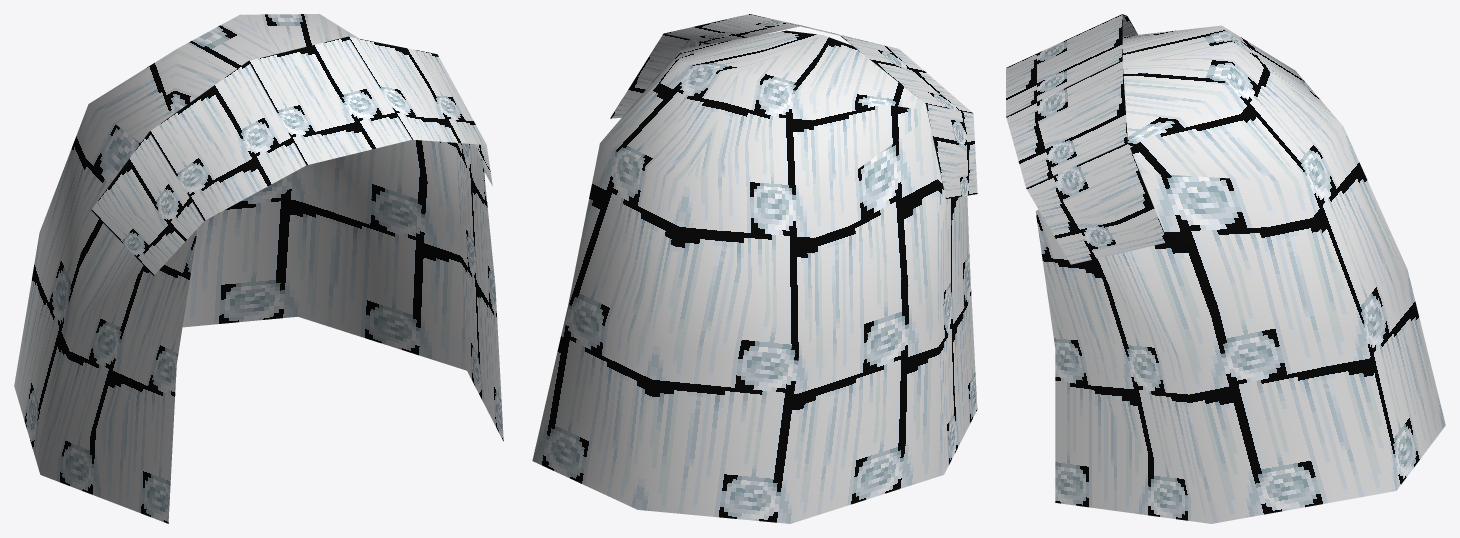
File: code_head03.gltf
The picture shows the model from 3 angles, left to right: view 1: azimuth 30°, elevation 25°; view 2: azimuth 150°, elevation 25°; view 3: azimuth 270°, elevation 25°; orthographic projection. The views are drawn at different scales.
Parts seen in each view (by area): view 1: code_head03; view 2: code_head03; view 3: code_head03.
Boxes of the visible parts, x1,y1,x2,y2 form: code_head03: (14, 14, 503, 523); code_head03: (532, 14, 977, 523); code_head03: (1006, 14, 1445, 523).
Size of the model in its own units: 0.8955 by 0.8203 by 0.8442.
1 material, 1 textured.
